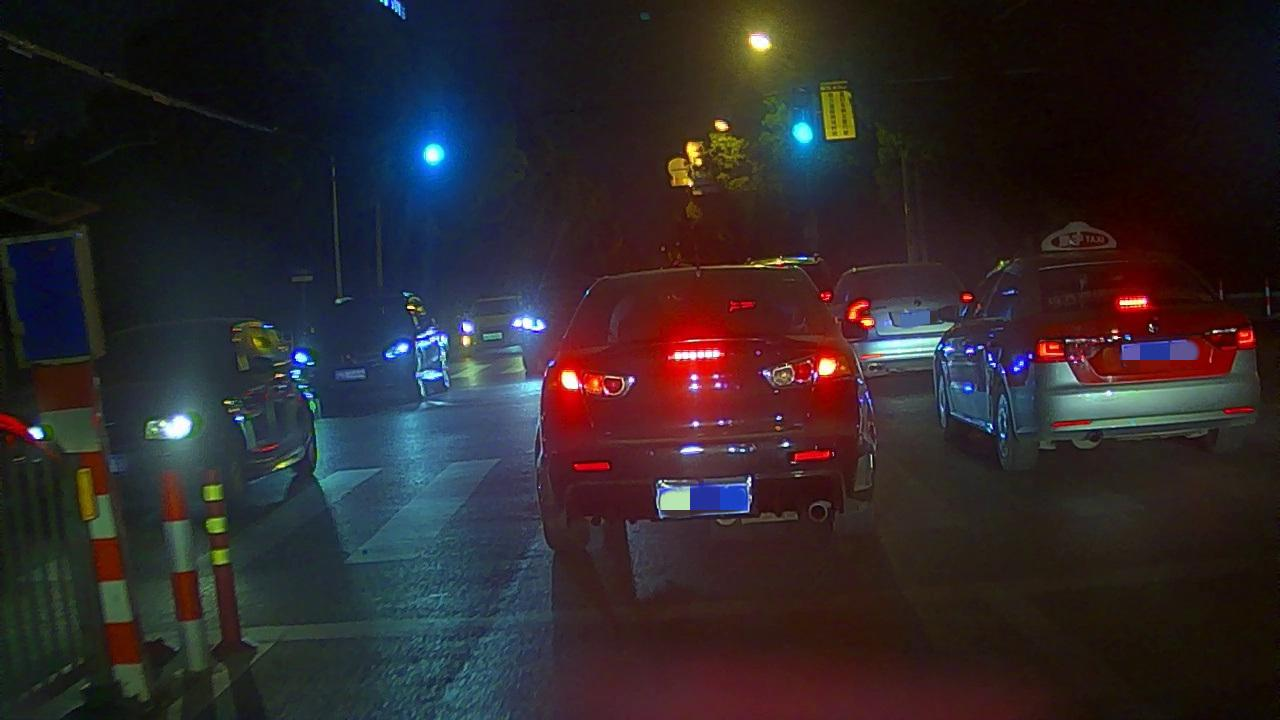traffic_light: (412, 131, 454, 174), (785, 115, 822, 149)
